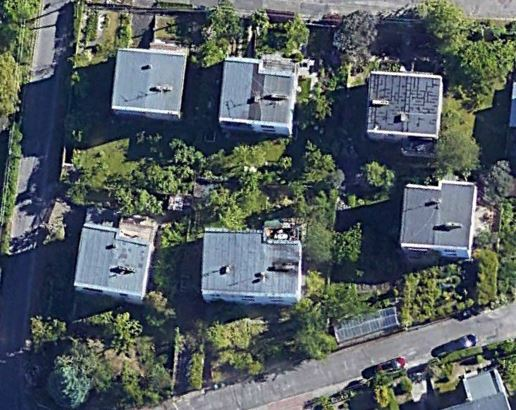family house: (200, 221, 303, 307), (71, 205, 158, 306), (215, 52, 301, 141), (395, 176, 480, 261), (108, 41, 190, 125), (363, 66, 445, 139)
